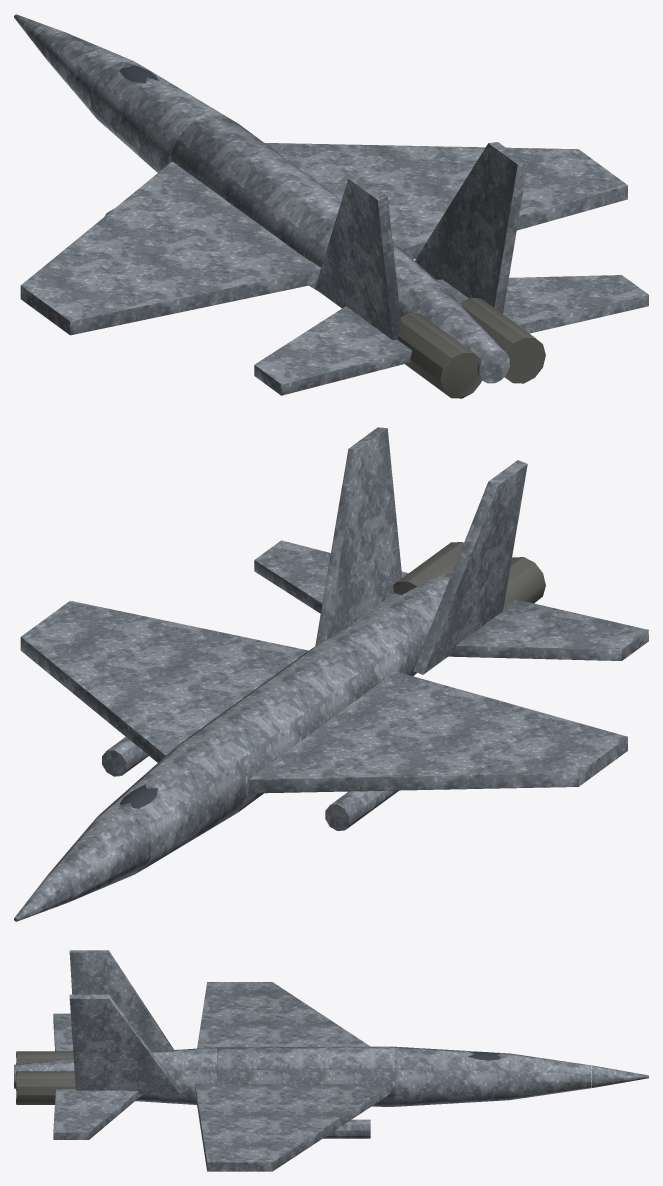
The model's file is air_e4_us_superiority_LOD1.glb.
3 views of the same model, one above another, from view 1: azimuth 30°, elevation 25°; view 2: azimuth 150°, elevation 25°; view 3: azimuth 270°, elevation 25° (orthographic). The views are drawn at different scales.
Parts seen in each view (by area): view 1: air_e4_us_superiority_LOD1_body, air_e4_us_superiority_LOD1_gun; view 2: air_e4_us_superiority_LOD1_body, air_e4_us_superiority_LOD1_gun; view 3: air_e4_us_superiority_LOD1_body, air_e4_us_superiority_LOD1_gun.
Part boxes in pixels (left/top/right/bottom): air_e4_us_superiority_LOD1_body: left=14, top=14, right=648, bottom=395; air_e4_us_superiority_LOD1_gun: left=397, top=298, right=545, bottom=398; air_e4_us_superiority_LOD1_body: left=14, top=427, right=648, bottom=921; air_e4_us_superiority_LOD1_gun: left=393, top=542, right=545, bottom=605; air_e4_us_superiority_LOD1_body: left=14, top=950, right=648, bottom=1171; air_e4_us_superiority_LOD1_gun: left=16, top=1051, right=75, bottom=1104.
Bounding box in the file's own units: 13.05 × 4.4 × 19.4.
3 materials, 1 textured.
